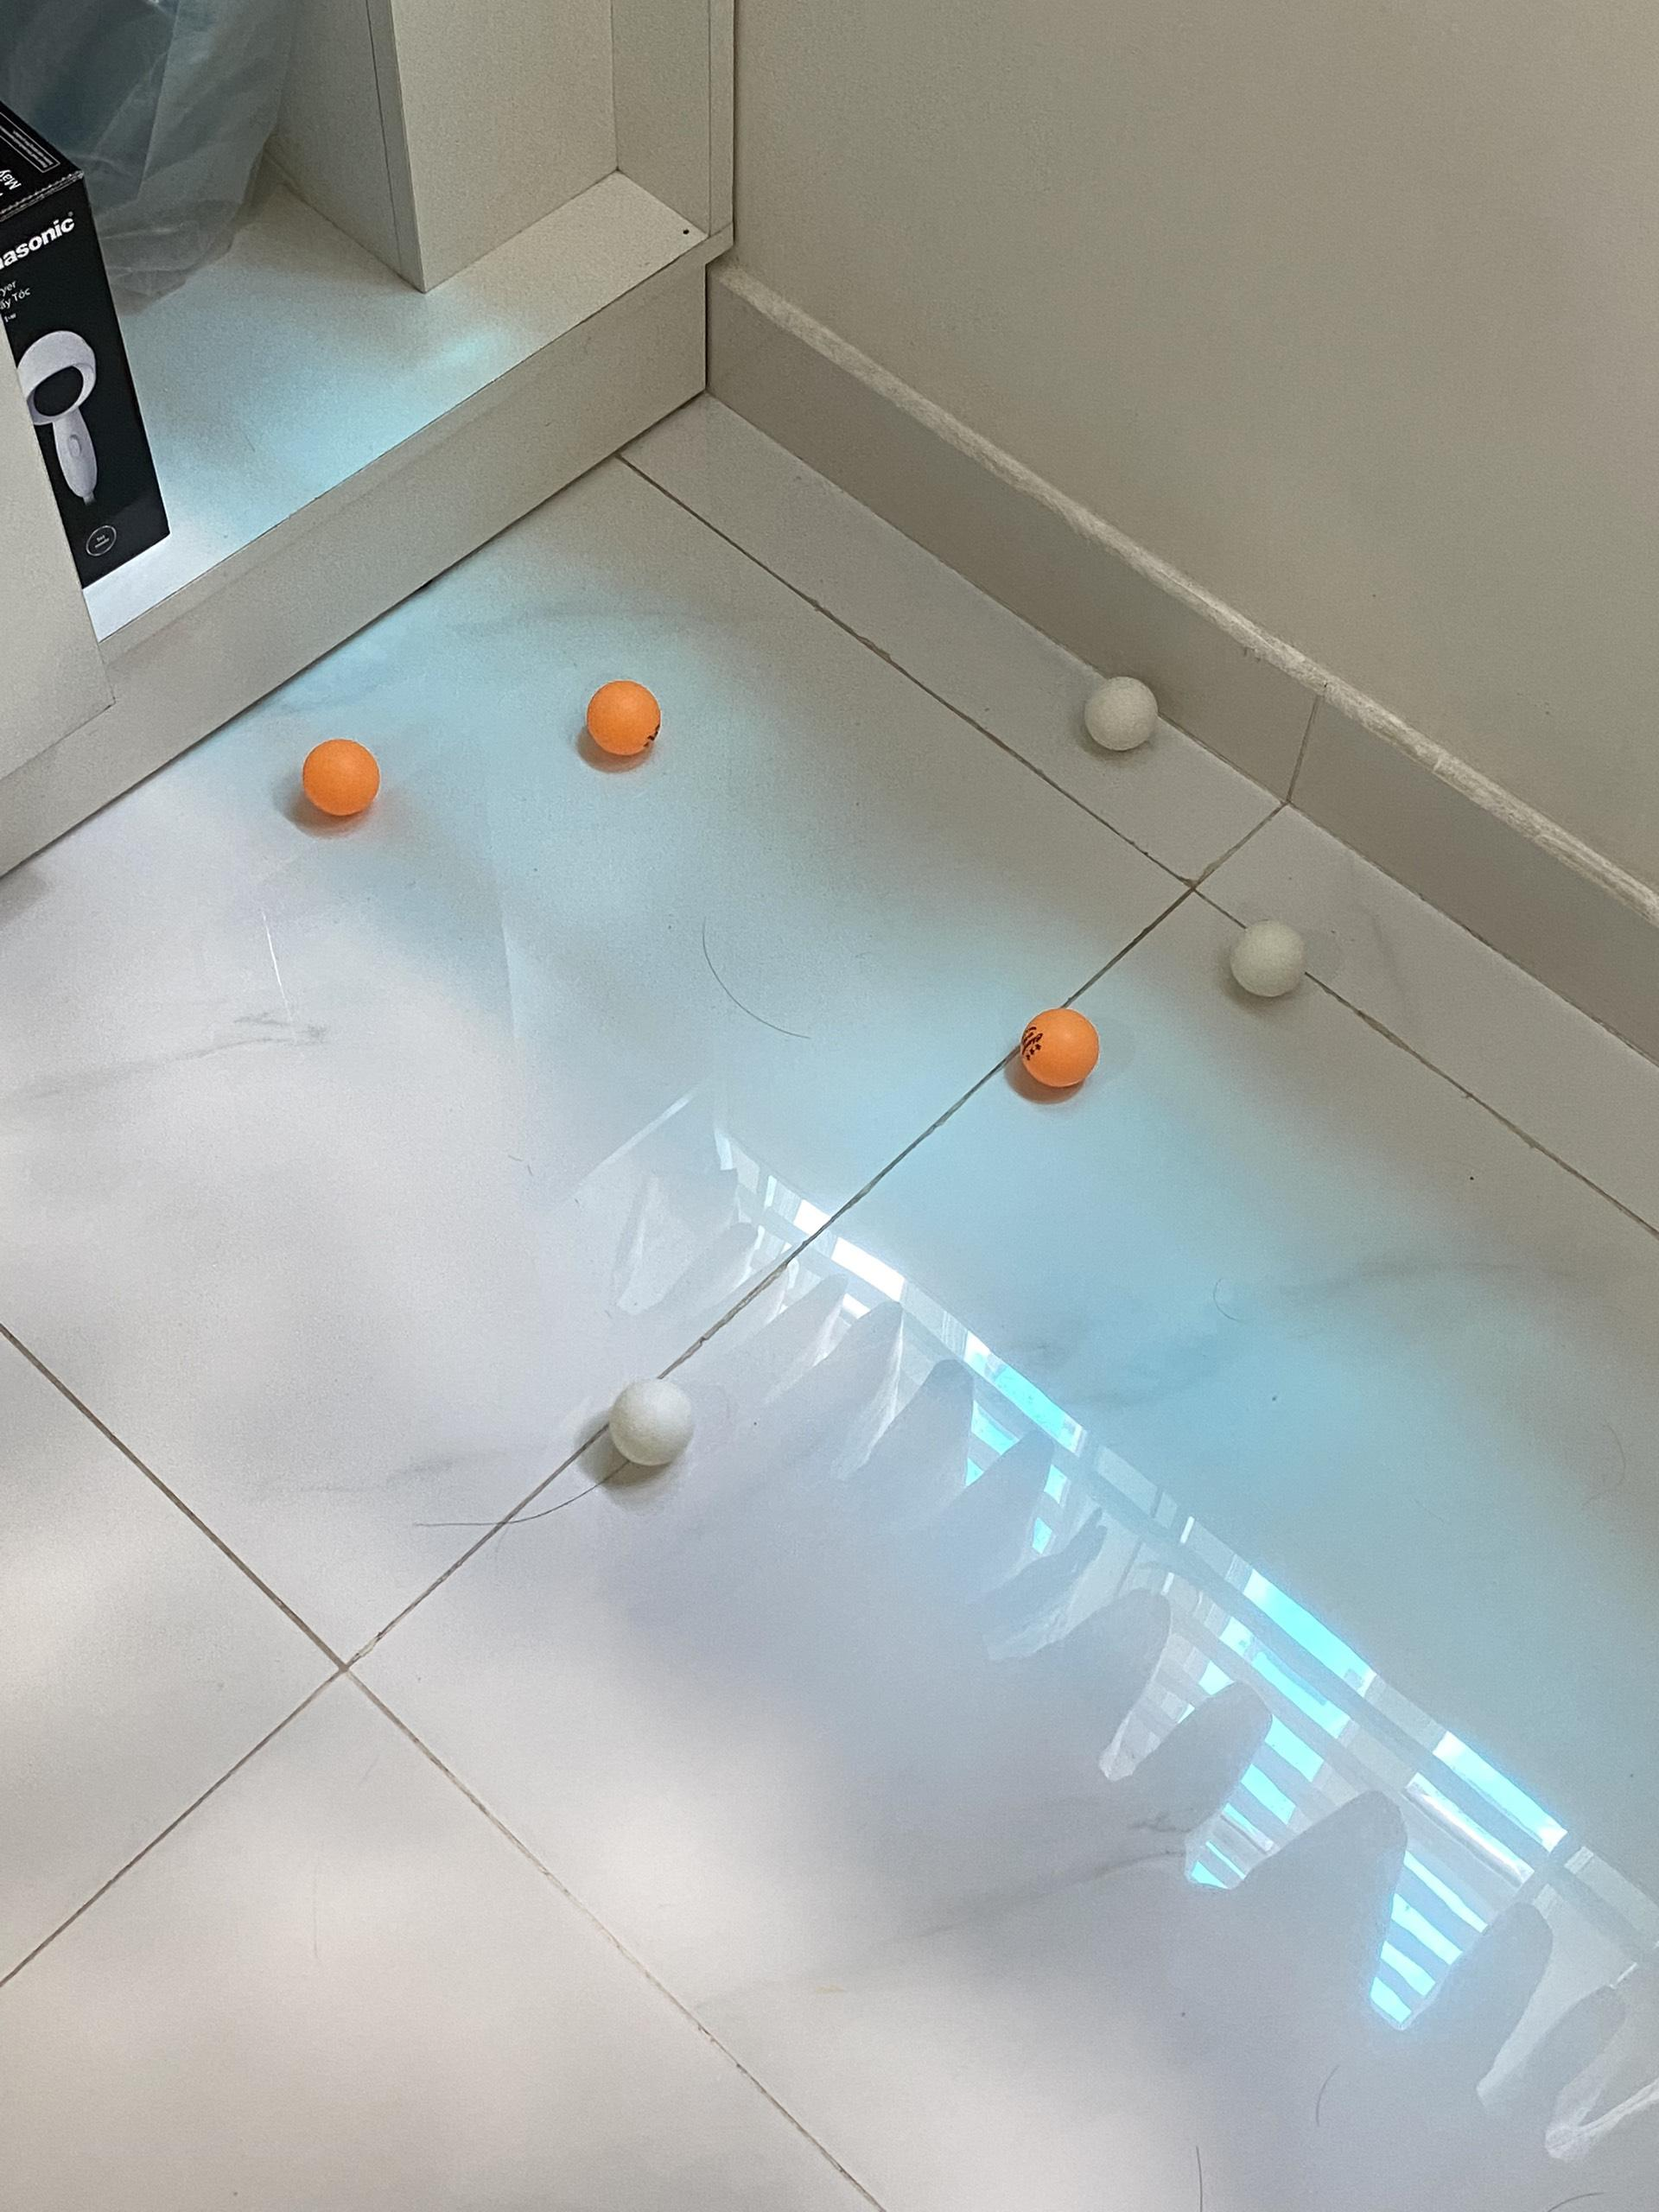oball: (1019, 1000, 1100, 1089), (300, 735, 378, 819), (587, 679, 662, 758)
